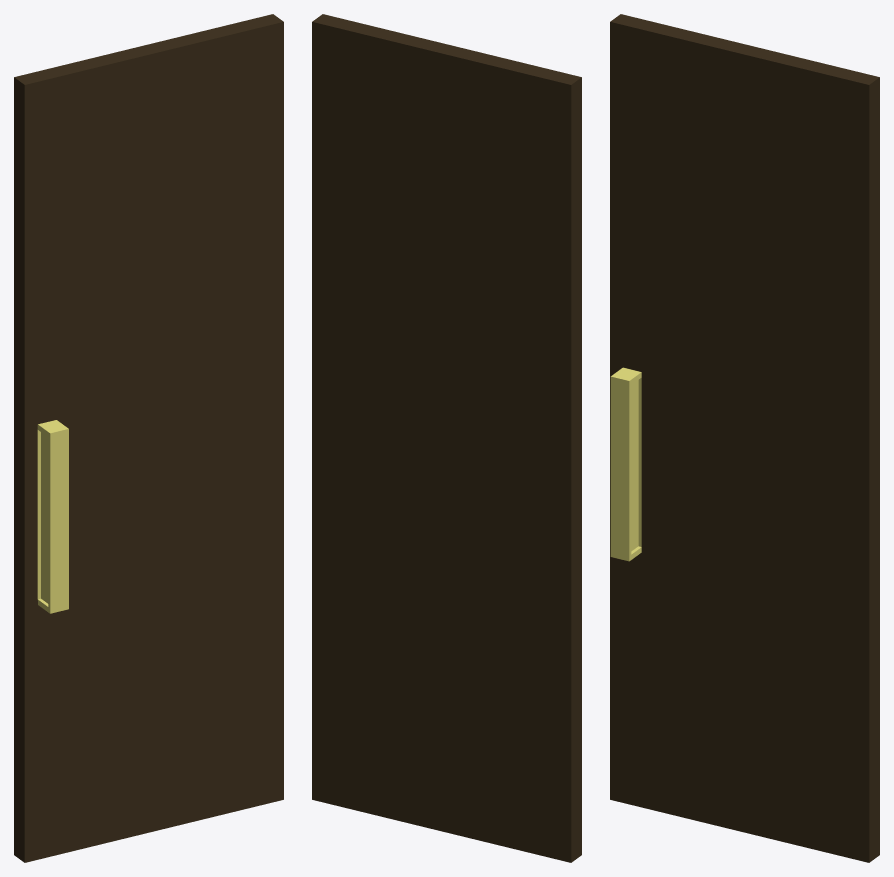
File: Itr_Wardrobe3_Door_Right_02.FBX
3 renders of one model, left to right at view 1: azimuth 30°, elevation 25°; view 2: azimuth 150°, elevation 25°; view 3: azimuth 330°, elevation 25°, orthographic.
Visible parts, largest first — view 1: Itr_Wardrobe3_Door_Right_02; view 2: Itr_Wardrobe3_Door_Right_02; view 3: Itr_Wardrobe3_Door_Right_02.
Boxes of the visible parts, x1,y1,x2,y2 form: Itr_Wardrobe3_Door_Right_02: [14, 14, 283, 862]; Itr_Wardrobe3_Door_Right_02: [312, 14, 581, 862]; Itr_Wardrobe3_Door_Right_02: [610, 14, 879, 862].
Bounding box in the file's own units: 20.07 × 57.59 × 3.1.
